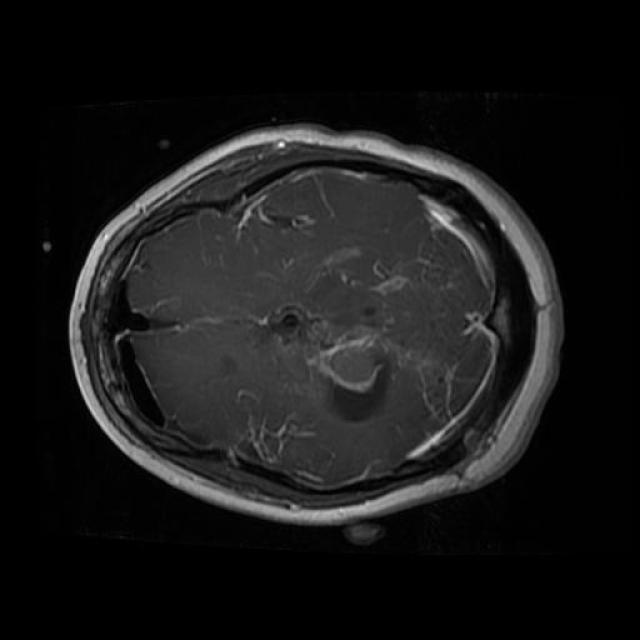Glioma: (80, 228, 181, 448), (308, 323, 396, 420)
